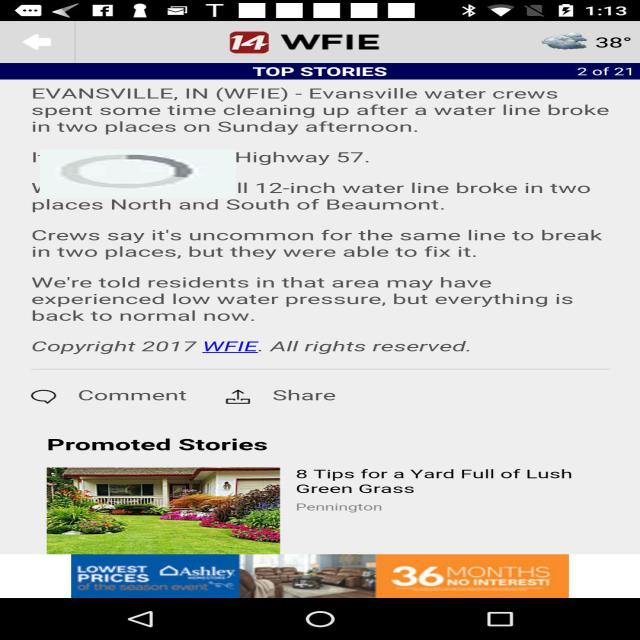misdirection: (40, 150, 236, 198)
